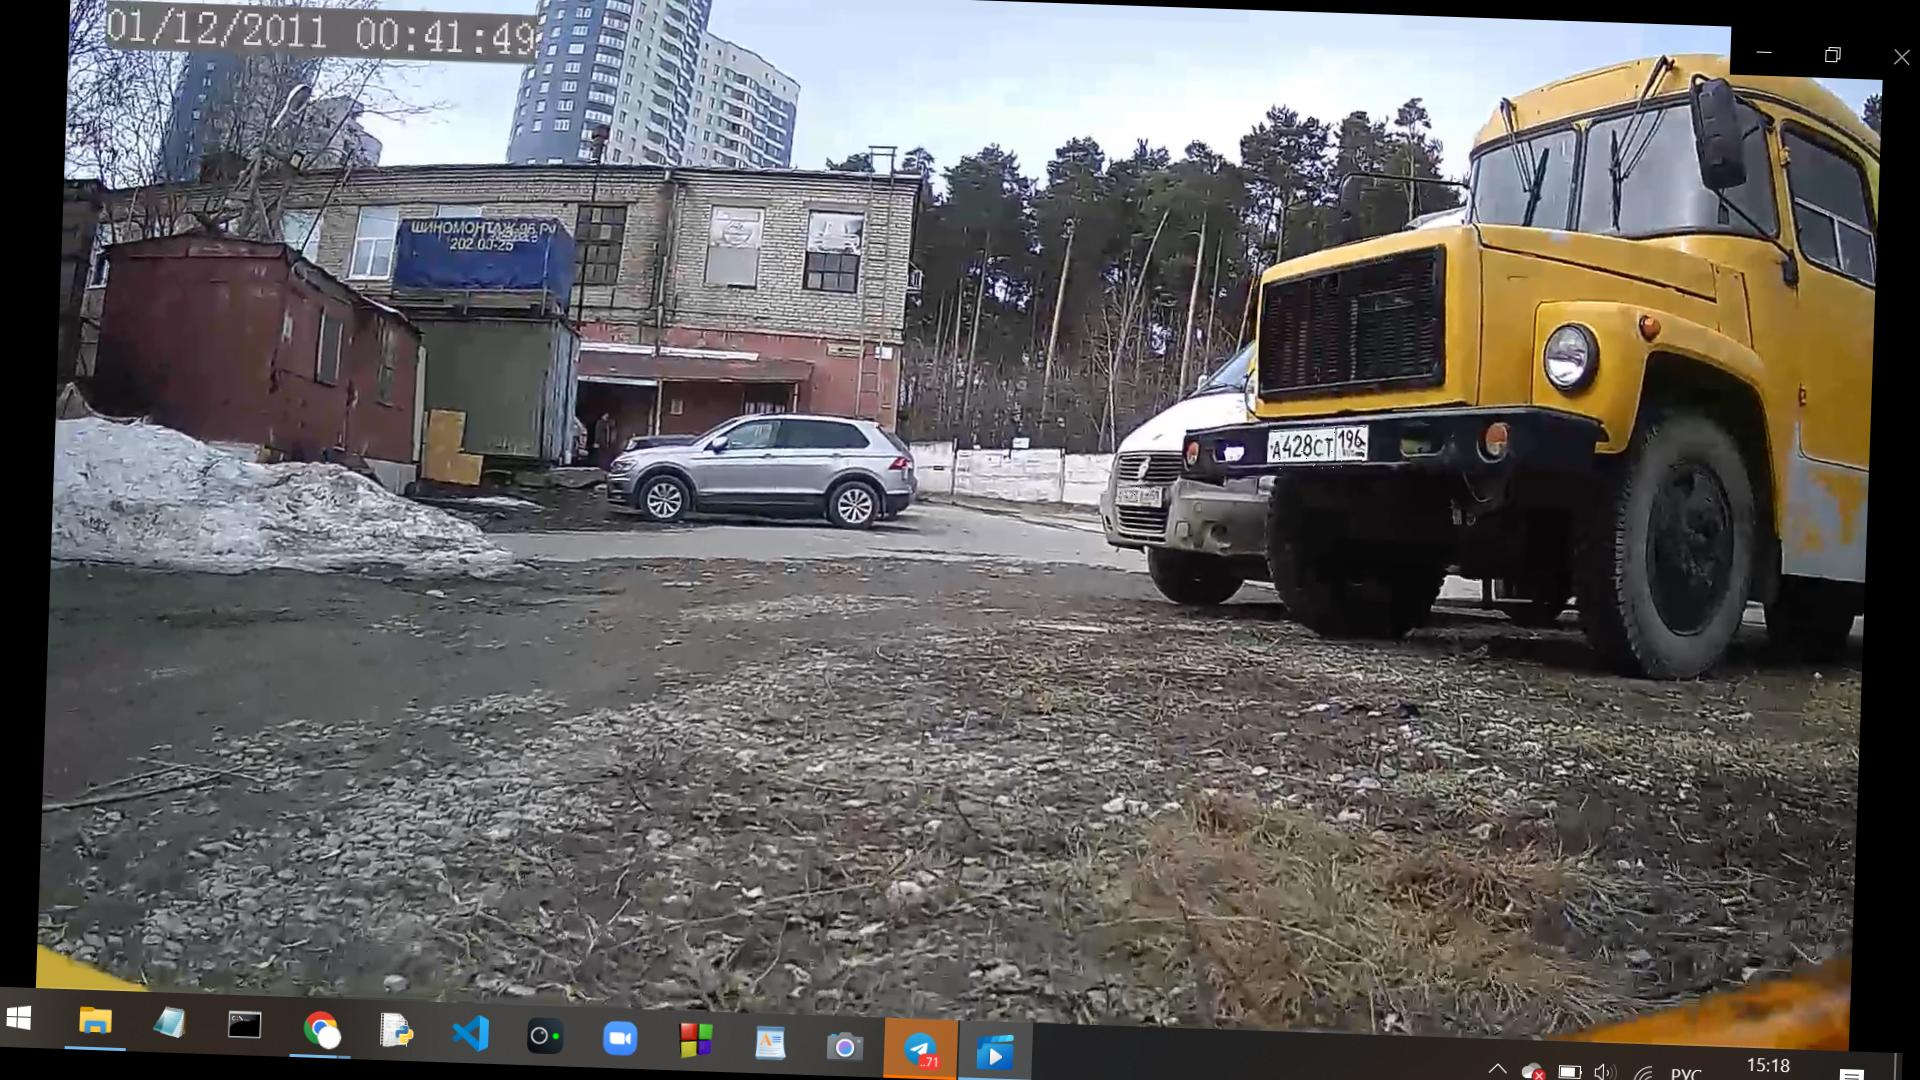plate: (1269, 425, 1366, 474), (1117, 486, 1160, 505)
